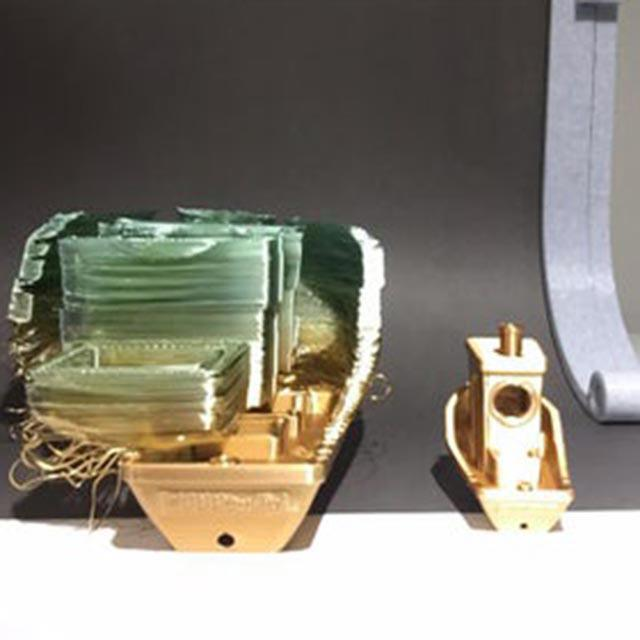spaghetti: (10, 419, 128, 534), (3, 326, 68, 386), (65, 337, 104, 377), (361, 372, 396, 407)
